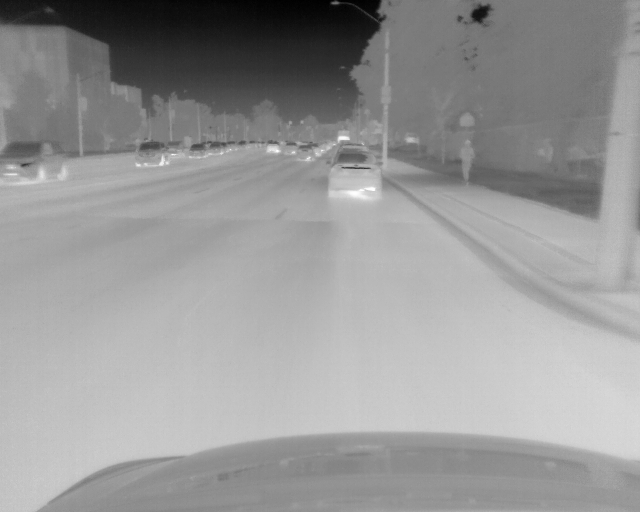car: (1, 140, 70, 188), (330, 147, 382, 203), (135, 141, 169, 168), (167, 140, 186, 158), (335, 129, 352, 145), (188, 144, 205, 160), (297, 146, 314, 161), (282, 142, 296, 156), (209, 142, 222, 156), (265, 141, 279, 154), (223, 141, 236, 152), (313, 145, 324, 157), (237, 140, 245, 149)
people: (457, 140, 476, 185)
